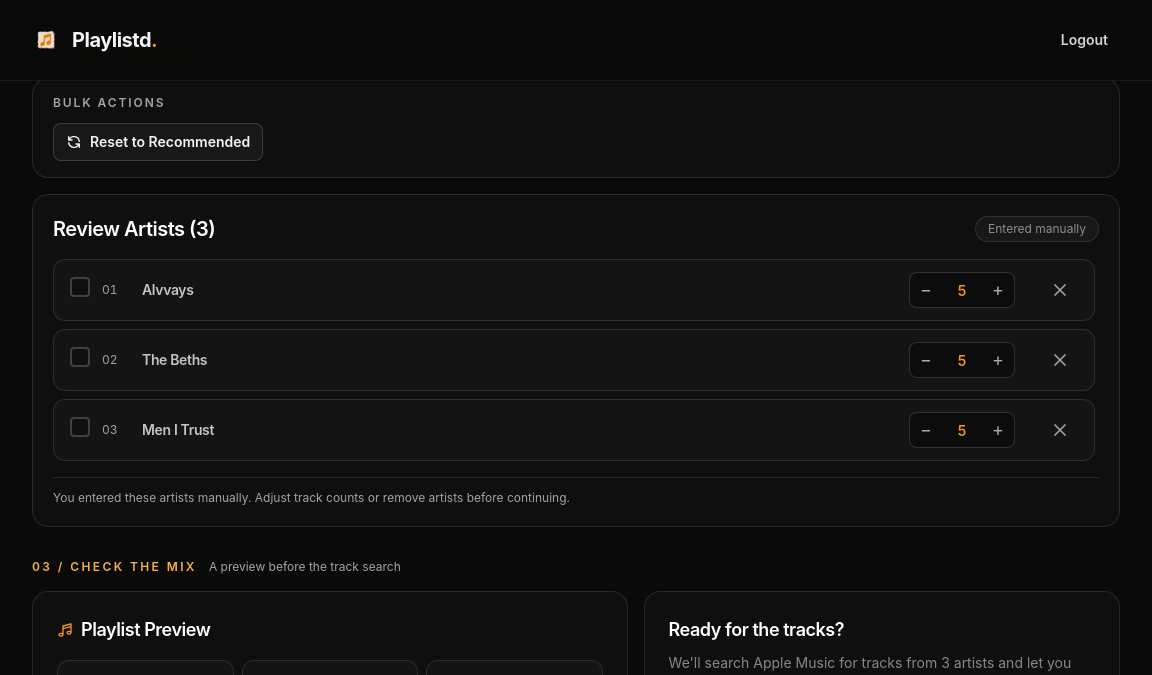
Scenario: review-artists with a manually entered (text) lineup › treats zero and fractions as invalid editing states, not values
(page scrolled)
Check: the heading "Review Artists (3)" is shown, box [53,215,215,243]
Replace the text in the number field named "Track count for The Beths" with "0" at (962, 360), box [942,344,982,376]
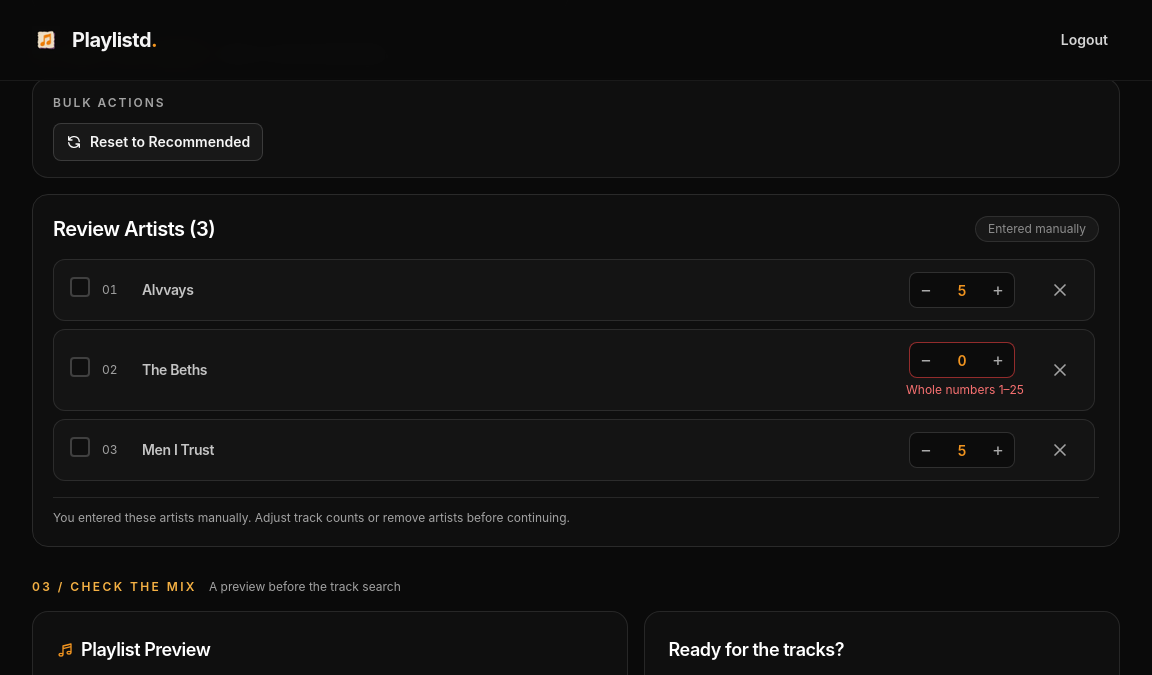
Check: the text "Whole numbers 1–25" is shown, box [906,382,1018,398]
Leave the number field named "Track count for The Beths", box [942,344,982,376]
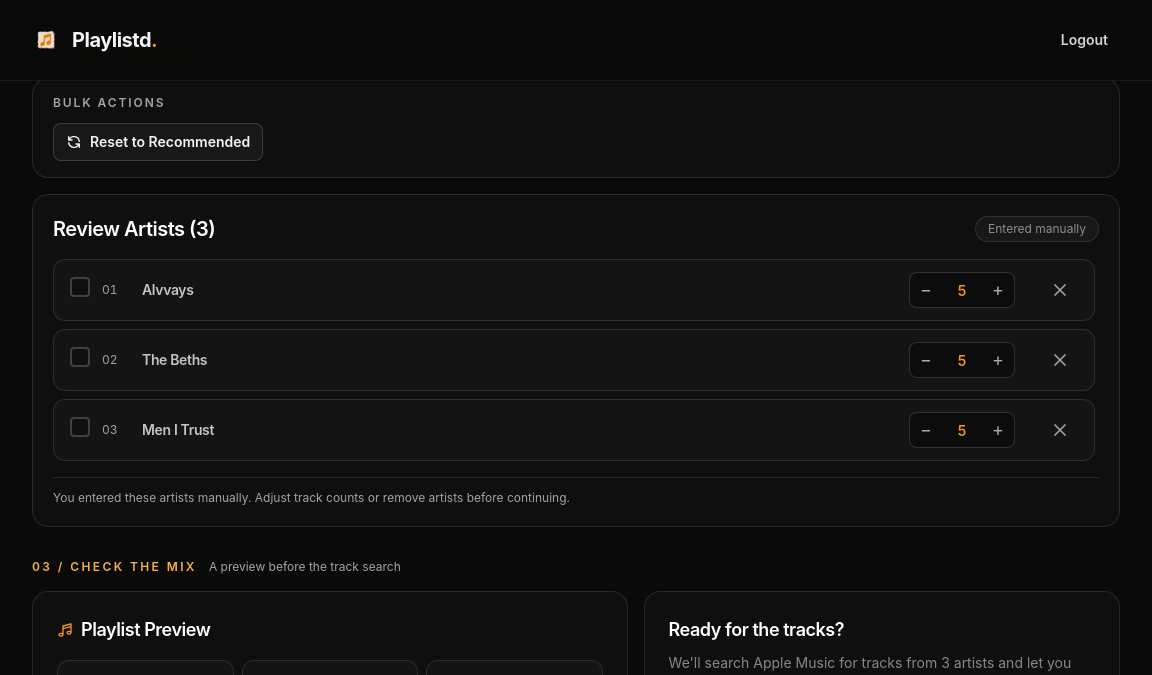
Check: the number field named "Track count for The Beths" holds "5"
Replace the text in the number field named "Track count for The Beths" with "2.5" at (962, 360), box [942,344,982,376]
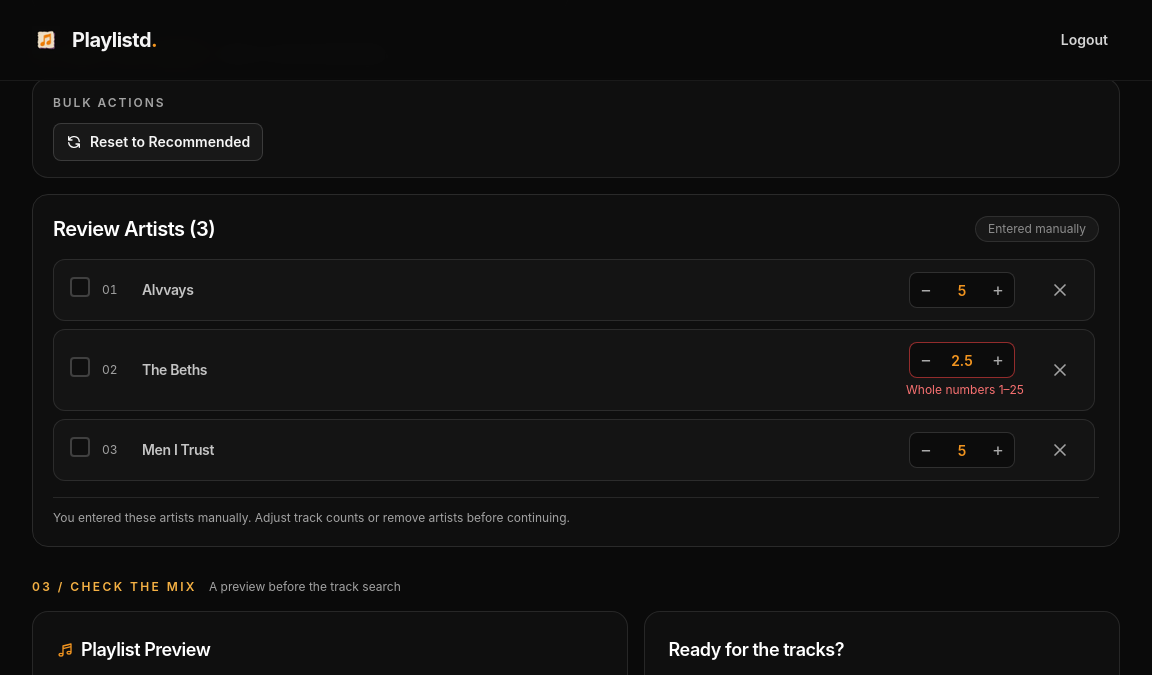
Check: the text "Whole numbers 1–25" is shown, box [906,382,1018,398]
Leave the number field named "Track count for The Beths", box [942,344,982,376]
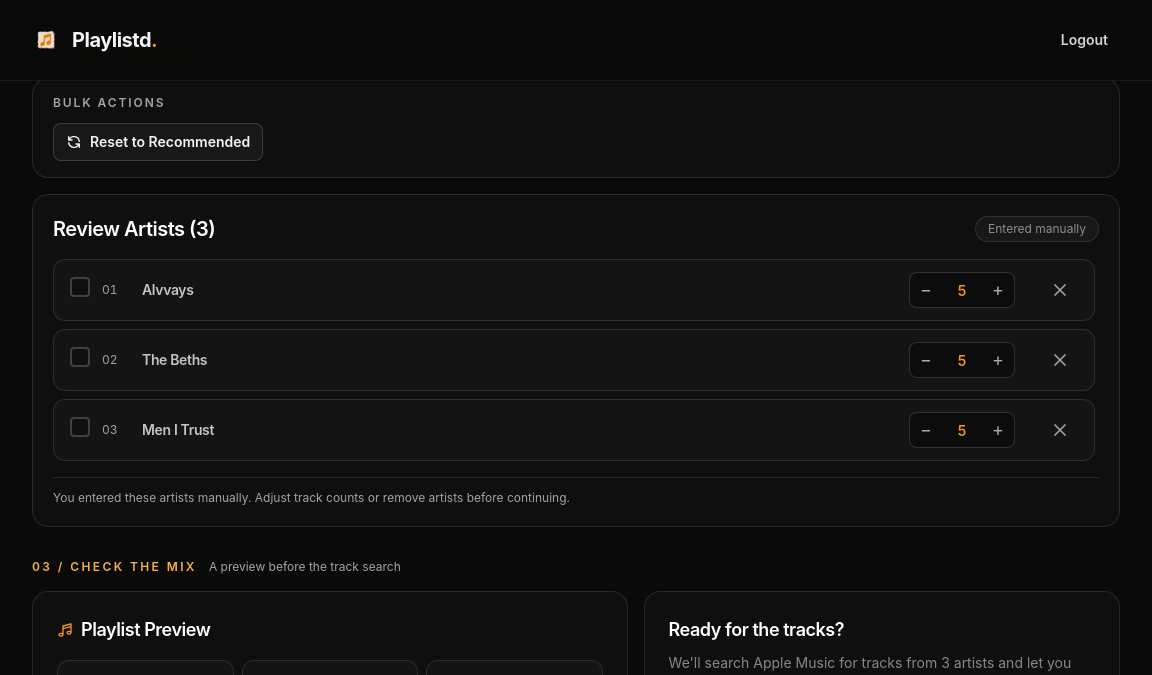
Check: the number field named "Track count for The Beths" holds "5", box [942,344,982,376]
